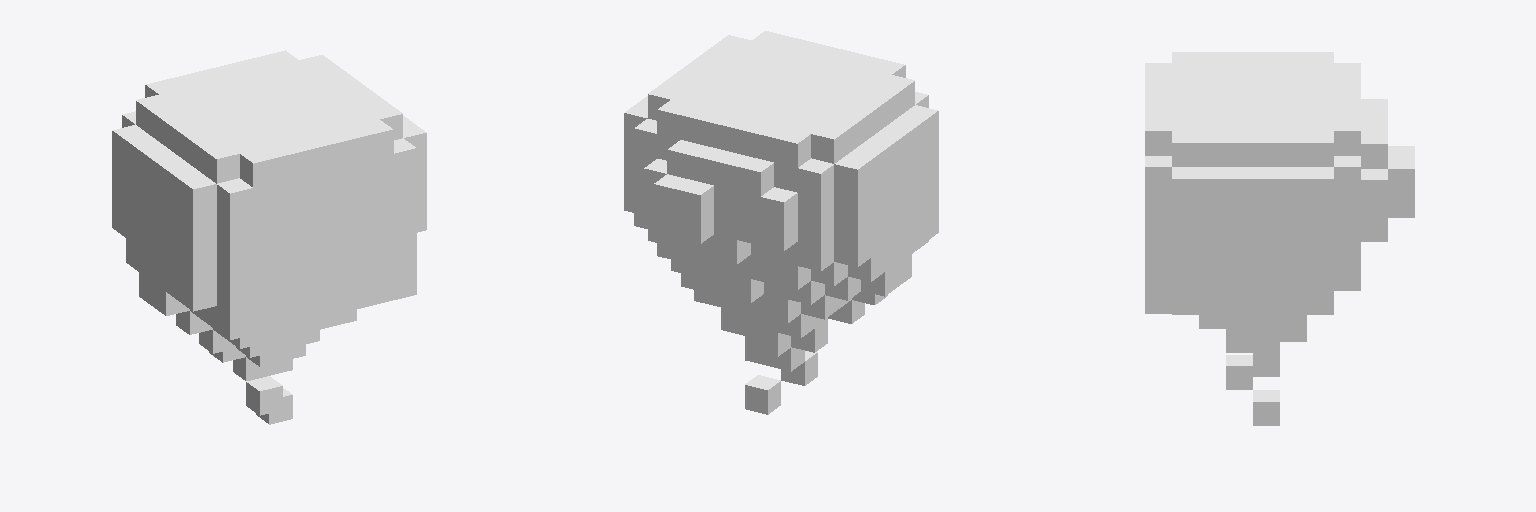
The model's file is monster-named-body.obj.
3 views of the same model, side by side, from view 1: azimuth 30°, elevation 25°; view 2: azimuth 150°, elevation 25°; view 3: azimuth 270°, elevation 25° (orthographic).
Size of the model in its own units: 10 by 13 by 10.